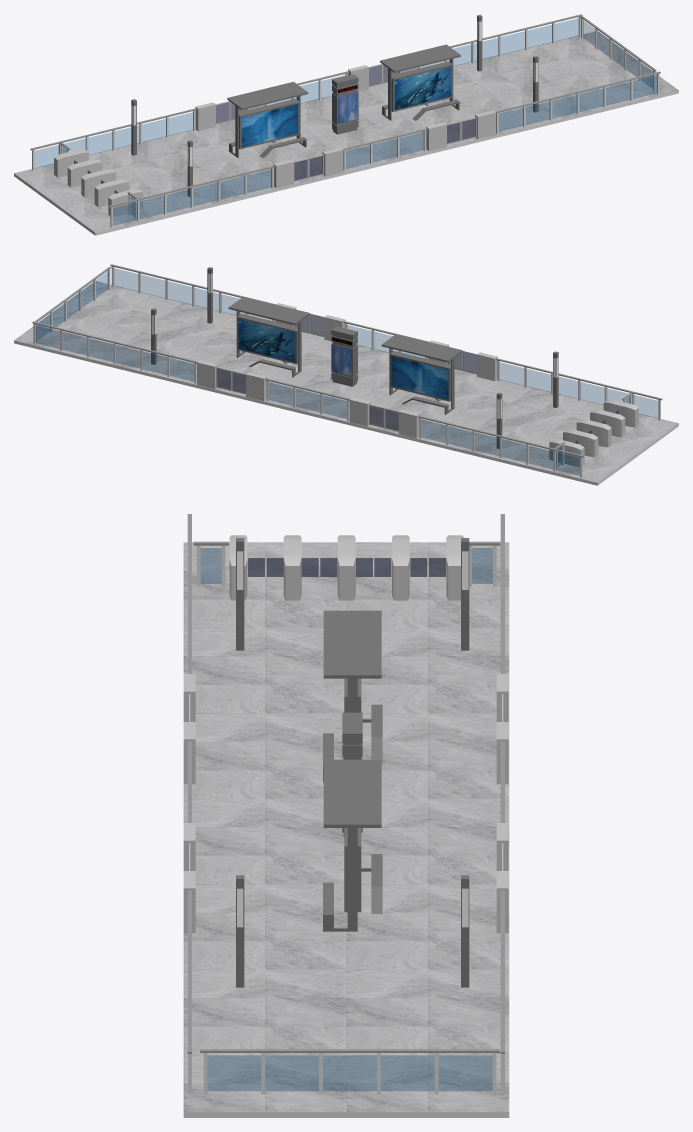
Rendered from station.gltf.
3 renders of one model, top to bottom at view 1: azimuth 30°, elevation 25°; view 2: azimuth 150°, elevation 25°; view 3: azimuth 270°, elevation 25°, orthographic. The views are drawn at different scales.
Visible parts, largest first — view 1: 立方体-地砖, 立方体, 顶棚 (×2), 玻璃 2 (×5), 门柱1 (×4), 玻璃 4 (×4), 玻璃 5 (×4), 广告牌-显示屏1, 广告牌-显示屏2, 玻璃 0 (×4), 框 (×4), 广告牌-深色漆 (×2) (+10 smaller); view 2: 立方体-地砖, 立方体, 顶棚 (×2), 玻璃 2 (×5), 玻璃 4 (×4), 玻璃 5 (×4), 广告牌-显示屏1, 广告牌-显示屏2, 框 (×4), 玻璃 0 (×4), 门柱1 (×3), 玻璃 3 (×3) (+10 smaller); view 3: 立方体-地砖, 顶棚 (×2), 立方体, 玻璃 0, 玻璃 1, 玻璃 2, 玻璃 3, 玻璃 4, 闸机.1, 闸机.2, 框, 闸机.3 (+3 smaller).
Boxes of the visible parts, bbox=[...] form: 立方体-地砖: bbox=[14, 31, 678, 232]; 立方体: bbox=[14, 90, 678, 235]; 顶棚 (×2): bbox=[227, 44, 460, 109]; 玻璃 2 (×5): bbox=[88, 38, 576, 212]; 门柱1 (×4): bbox=[195, 65, 446, 188]; 玻璃 4 (×4): bbox=[142, 25, 630, 199]; 玻璃 5 (×4): bbox=[169, 18, 657, 192]; 广告牌-显示屏1: bbox=[241, 104, 298, 147]; 广告牌-显示屏2: bbox=[394, 66, 451, 109]; 玻璃 0 (×4): bbox=[35, 108, 523, 225]; 框 (×4): bbox=[30, 14, 660, 207]; 广告牌-深色漆 (×2): bbox=[239, 61, 452, 149]; 立方体-地砖: bbox=[14, 281, 678, 482]; 立方体: bbox=[14, 340, 678, 485]; 顶棚 (×2): bbox=[228, 297, 462, 362]; 玻璃 2 (×5): bbox=[116, 288, 604, 462]; 玻璃 4 (×4): bbox=[62, 275, 550, 449]; 玻璃 5 (×4): bbox=[35, 268, 523, 442]; 广告牌-显示屏1: bbox=[391, 356, 448, 399]; 广告牌-显示屏2: bbox=[238, 319, 295, 362]; 框 (×4): bbox=[32, 264, 662, 457]; 玻璃 0 (×4): bbox=[170, 358, 657, 475]; 门柱1 (×3): bbox=[246, 352, 497, 438]; 玻璃 3 (×3): bbox=[89, 281, 499, 455]; 立方体-地砖: bbox=[183, 542, 509, 1111]; 顶棚 (×2): bbox=[323, 610, 381, 827]; 立方体: bbox=[183, 1112, 509, 1117]; 玻璃 0: bbox=[439, 1055, 492, 1090]; 玻璃 1: bbox=[381, 1055, 434, 1090]; 玻璃 2: bbox=[323, 1055, 376, 1090]; 玻璃 3: bbox=[265, 1055, 318, 1090]; 玻璃 4: bbox=[207, 1055, 260, 1090]; 闸机.1: bbox=[283, 535, 301, 600]; 闸机.2: bbox=[337, 535, 355, 600]; 框: bbox=[200, 1049, 499, 1052]; 闸机.3: bbox=[392, 535, 409, 600].
Bounding box in the file's own units: 3265 × 307 × 789.
Materials: 13 (4 with a texture image).
